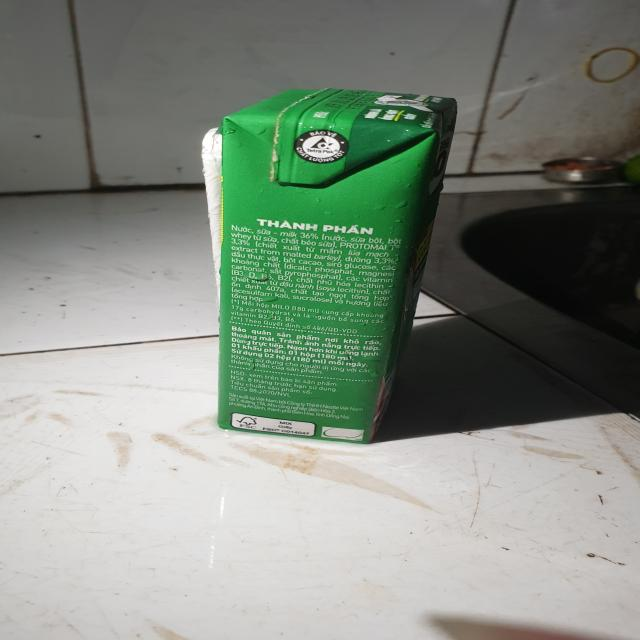Milo: (197, 86, 467, 447)
